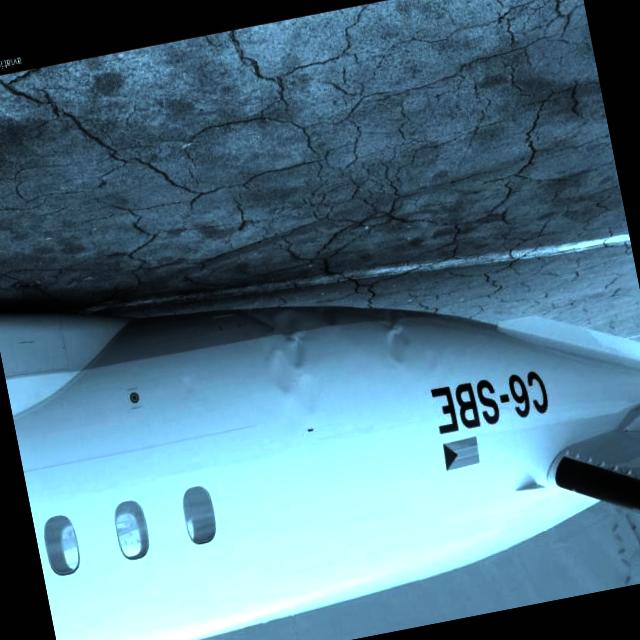dent: (258, 302, 322, 400), (378, 302, 420, 372)
